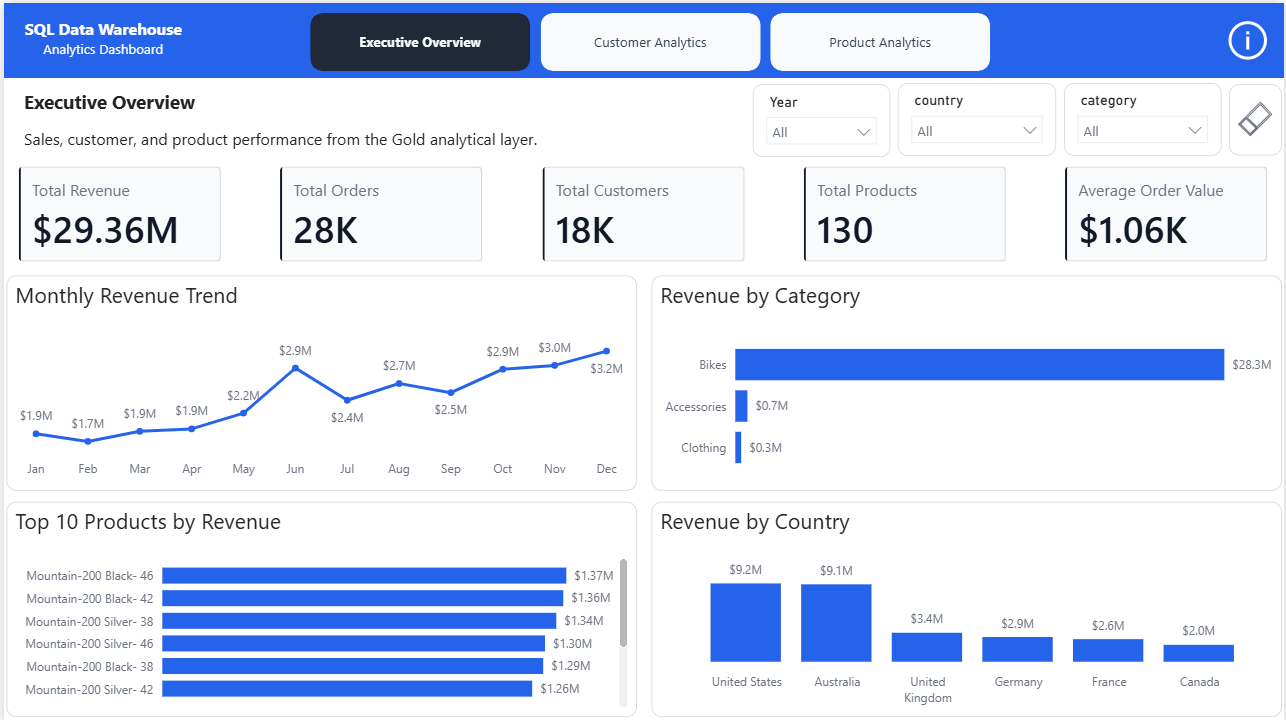

The dashboard page shown, as its layout file describes it:
{"tool":"powerbi","page":{"name":"Executive Overview","canvas":[1280,720],"ordinal":0},"visuals":[{"type":"shape","box":[0,0,1280,75],"z":0},{"type":"textbox","box":[9.7,81,194.2,36.2],"z":1000},{"type":"textbox","box":[10,120,536.2,33.8],"z":2000},{"type":"cardVisual","fields":{"Data":["_Measures.Total Revenue"]},"box":[10,159.4,212.5,105],"z":3000},{"type":"cardVisual","fields":{"Data":["_Measures.Total Orders"]},"box":[271.6,159.4,212.5,105],"z":4000},{"type":"cardVisual","fields":{"Data":["_Measures.Total Customers"]},"box":[533.1,159.4,212.5,105],"z":5000},{"type":"cardVisual","fields":{"Data":["_Measures.Total Products"]},"box":[794.7,159.4,212.5,105],"z":6000},{"type":"cardVisual","fields":{"Data":["_Measures.Average Order Value"]},"box":[1056.2,159.4,212.5,105],"z":7000},{"type":"lineChart","title":"Monthly Revenue Trend","fields":{"Category":["Dim Date.Month"],"Y":["_Measures.Total Revenue"]},"box":[2.5,273,630,215],"z":8000},{"type":"clusteredBarChart","title":"Top 10 Products by Revenue","fields":{"Y":["_Measures.Total Revenue"],"Category":["Dim Products.product_name"]},"box":[2.5,498.8,630,215],"z":9000},{"type":"clusteredBarChart","title":"Revenue by Category","fields":{"Y":["_Measures.Total Revenue"],"Category":["Dim Products.category"]},"box":[647.5,273.1,630,215],"z":10000},{"type":"clusteredColumnChart","title":"Revenue by Country","fields":{"Y":["_Measures.Total Revenue"],"Category":["Dim Customers.country"]},"box":[647.5,498.8,630,215],"z":11000},{"type":"slicer","fields":{"Values":["Dim Date.Year"]},"box":[748.8,81.5,137.5,72.5],"z":12000},{"type":"slicer","fields":{"Values":["Dim Customers.country"]},"box":[893.8,80.2,158.8,72.5],"z":13000},{"type":"slicer","fields":{"Values":["Dim Products.category"]},"box":[1060,80.2,157.5,72.5],"z":14000},{"type":"actionButton","box":[1225,81.5,52.5,71.2],"z":15000},{"type":"pageNavigator","box":[306.2,10,682.5,58.8],"z":16000},{"type":"textbox","box":[10,10,178.8,58.8],"z":17000},{"type":"actionButton","box":[1218.8,10,50,55],"z":18000}]}

Visuals, with their boxes in screenshot pixels (x1, y1, x2, y2), scaled from the page's 1280x720 canvas onto the 1286x720 screenshot:
shape: detection(0, 0, 1285, 75)
textbox: detection(10, 81, 205, 117)
textbox: detection(10, 120, 549, 154)
cardVisual - _Measures.Total Revenue: detection(10, 159, 224, 264)
cardVisual - _Measures.Total Orders: detection(273, 159, 486, 264)
cardVisual - _Measures.Total Customers: detection(536, 159, 749, 264)
cardVisual - _Measures.Total Products: detection(798, 159, 1012, 264)
cardVisual - _Measures.Average Order Value: detection(1061, 159, 1275, 264)
"Monthly Revenue Trend" lineChart: detection(3, 273, 635, 488)
"Top 10 Products by Revenue" clusteredBarChart: detection(3, 499, 635, 714)
"Revenue by Category" clusteredBarChart: detection(651, 273, 1283, 488)
"Revenue by Country" clusteredColumnChart: detection(651, 499, 1283, 714)
slicer - Dim Date.Year: detection(752, 82, 890, 154)
slicer - Dim Customers.country: detection(898, 80, 1058, 153)
slicer - Dim Products.category: detection(1065, 80, 1223, 153)
actionButton: detection(1231, 82, 1283, 153)
pageNavigator: detection(308, 10, 993, 69)
textbox: detection(10, 10, 190, 69)
actionButton: detection(1225, 10, 1275, 65)
